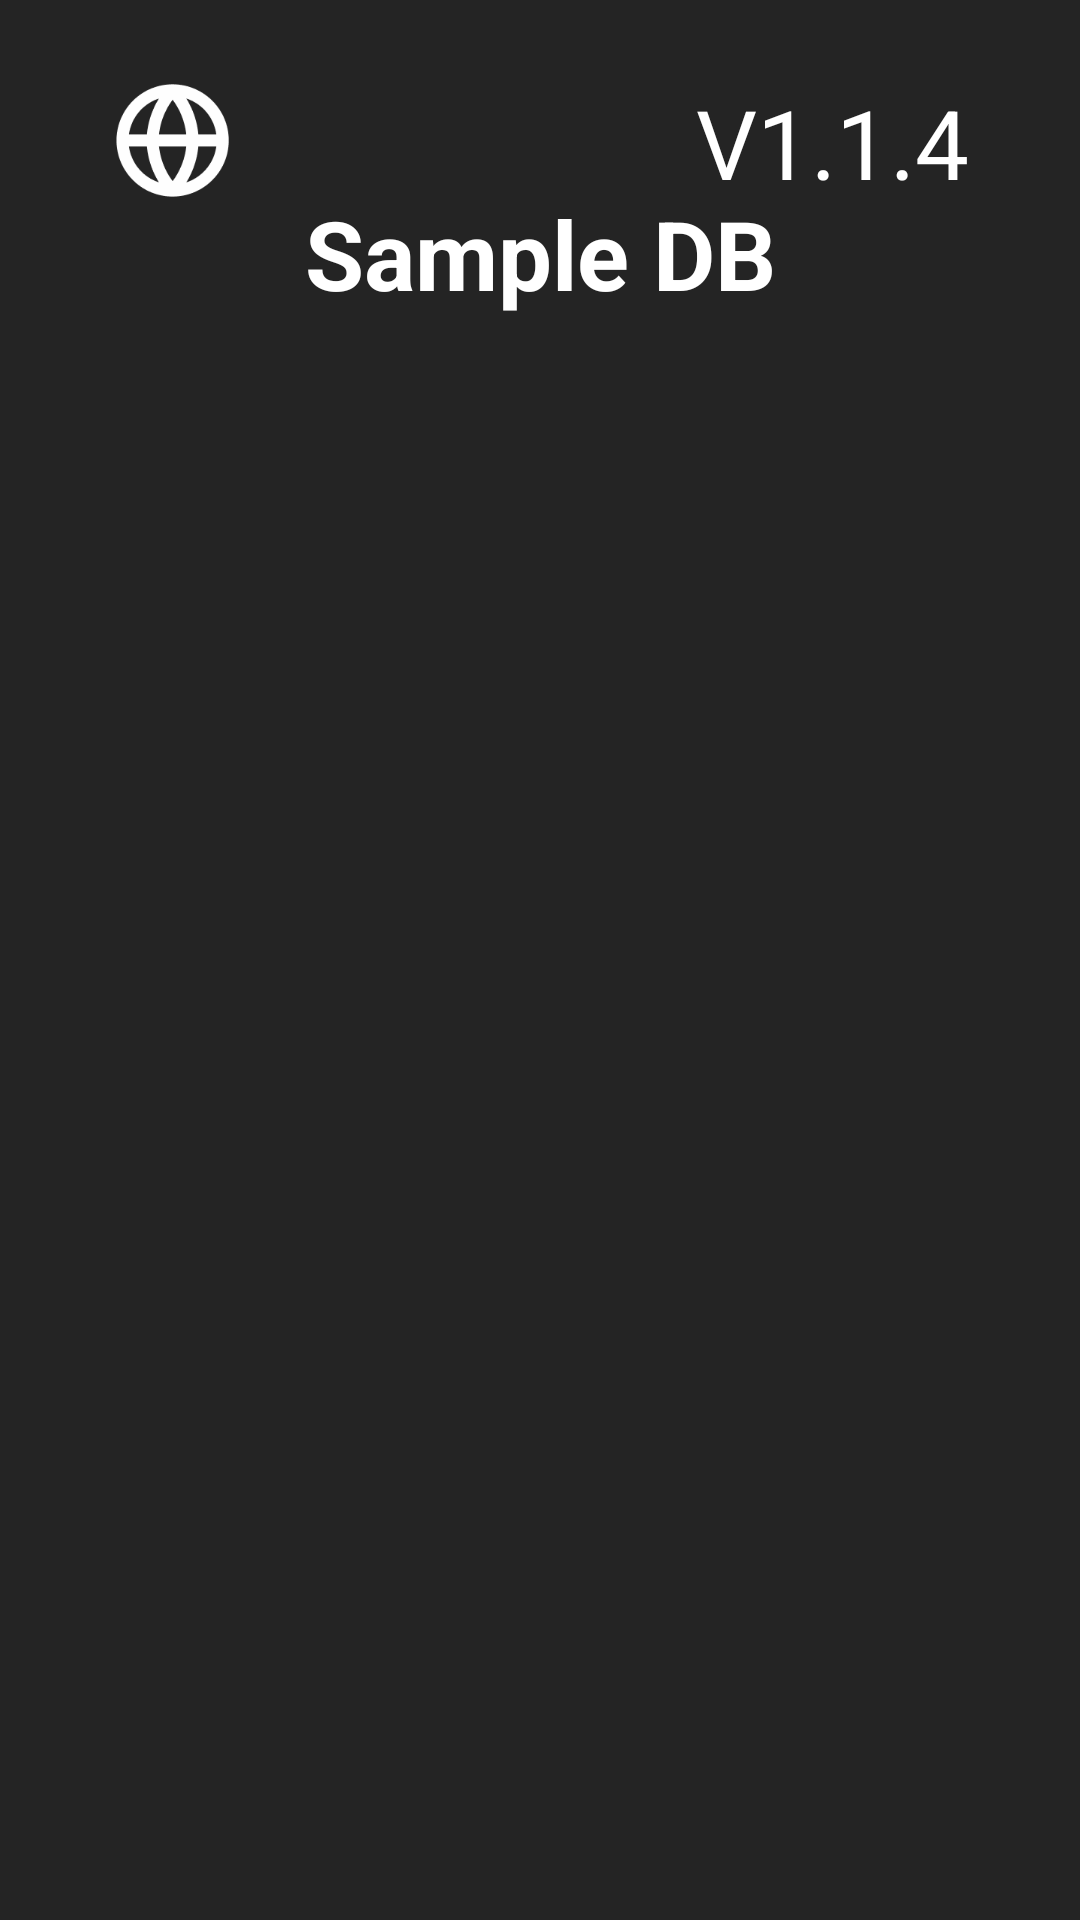

Icon click points for this 1080*1920 phone screenshot, format [x,y]:
globe: [172,140]
